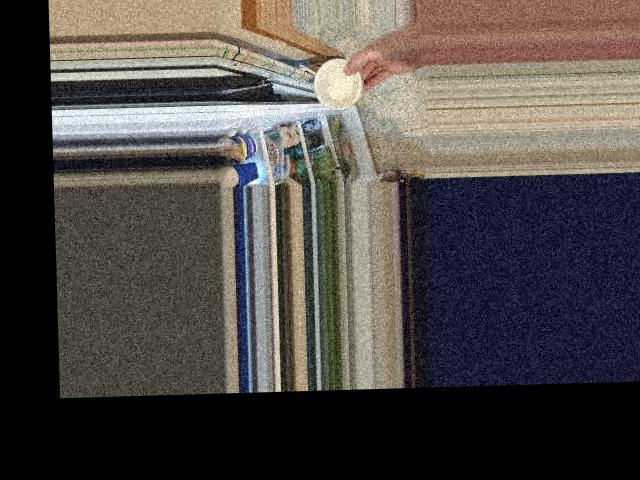cotage: (311, 62, 365, 110)
